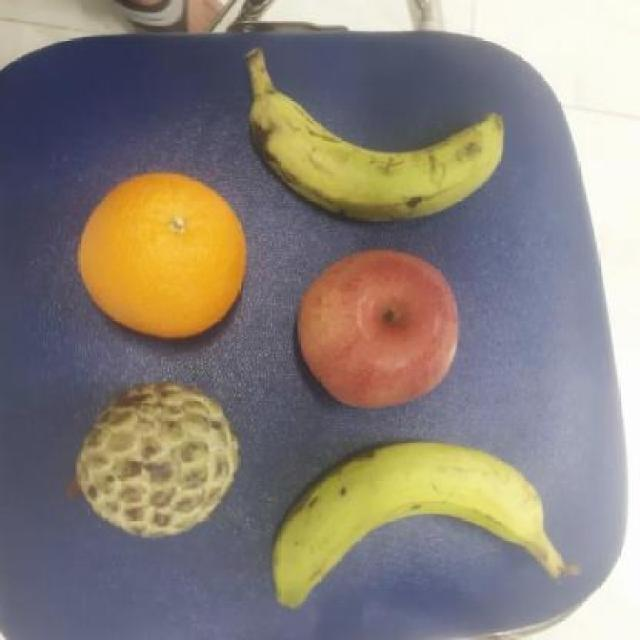apple: (297, 246, 466, 414)
banana: (270, 437, 561, 608), (245, 78, 508, 227)
oren: (72, 169, 252, 342)
sugar apple: (74, 383, 245, 542)
